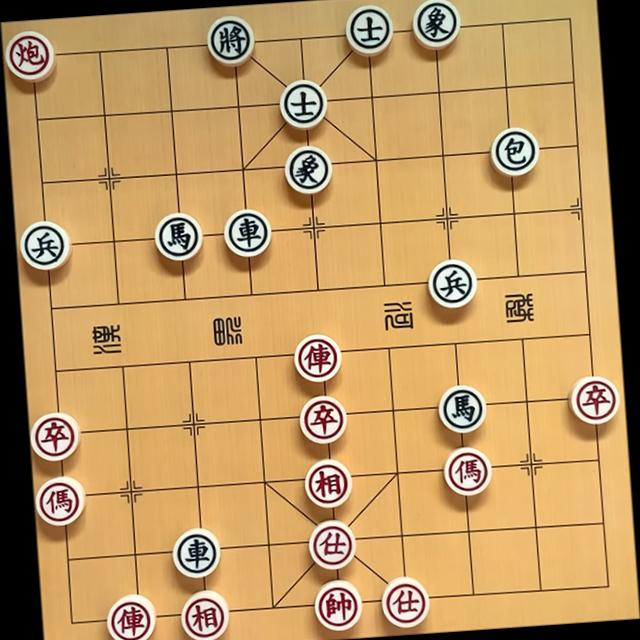black-advisor: (342, 4, 397, 56), (282, 76, 326, 128)
black-cannon: (492, 127, 540, 179)
black-chariot: (174, 526, 222, 580), (222, 208, 272, 258)
black-elephant: (284, 144, 332, 197), (412, 0, 462, 50)
black-general: (207, 16, 254, 66)
black-horse: (439, 382, 486, 436), (156, 210, 204, 262)
black-soldier: (18, 220, 72, 273), (428, 257, 480, 310)
intersection: (274, 12, 326, 60), (413, 68, 462, 118), (476, 0, 528, 47), (424, 194, 476, 241), (106, 466, 155, 513), (547, 59, 594, 107), (288, 204, 337, 250), (90, 216, 138, 262), (214, 80, 259, 128), (481, 60, 526, 108), (511, 441, 554, 491), (350, 69, 392, 120), (148, 87, 194, 133), (243, 518, 289, 564), (82, 90, 126, 138), (566, 308, 610, 356), (450, 570, 498, 614), (556, 182, 598, 232), (502, 378, 547, 424), (86, 156, 134, 199), (418, 134, 466, 177), (175, 459, 218, 507), (17, 97, 62, 142), (112, 530, 156, 576), (248, 584, 292, 630), (554, 120, 596, 168), (446, 507, 490, 552), (547, 0, 592, 43), (494, 190, 536, 236), (167, 338, 210, 382), (574, 436, 618, 479), (45, 539, 91, 580), (230, 271, 272, 315), (104, 408, 148, 450), (514, 504, 556, 548), (520, 566, 562, 610), (146, 23, 187, 68), (375, 446, 415, 492), (586, 563, 626, 609), (22, 160, 64, 203), (295, 265, 337, 308), (172, 402, 215, 444), (373, 391, 415, 434), (380, 512, 422, 555), (564, 248, 605, 292), (243, 459, 284, 503), (370, 326, 410, 371), (96, 279, 138, 321), (364, 258, 406, 300), (358, 199, 401, 240), (80, 30, 118, 76), (433, 320, 476, 360), (220, 146, 260, 188), (238, 398, 278, 440), (582, 498, 622, 540), (157, 150, 196, 193), (356, 140, 396, 180), (496, 254, 536, 293), (37, 352, 76, 392), (166, 279, 205, 318), (56, 601, 94, 640), (104, 350, 142, 388), (34, 288, 71, 327), (503, 322, 538, 362), (240, 338, 274, 379)
red-advisor: (380, 577, 430, 628), (308, 521, 356, 570)
red-cannon: (5, 30, 56, 80)
red-chariot: (294, 333, 343, 383), (107, 595, 156, 640)
red-elephant: (182, 589, 229, 640), (305, 458, 352, 508)
red-general: (314, 582, 362, 630)
red-horse: (36, 479, 86, 525), (446, 447, 491, 498)
red-soldier: (31, 412, 79, 462), (300, 394, 346, 443), (573, 377, 618, 423)
